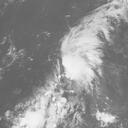cyclone: (59, 31, 100, 87)
